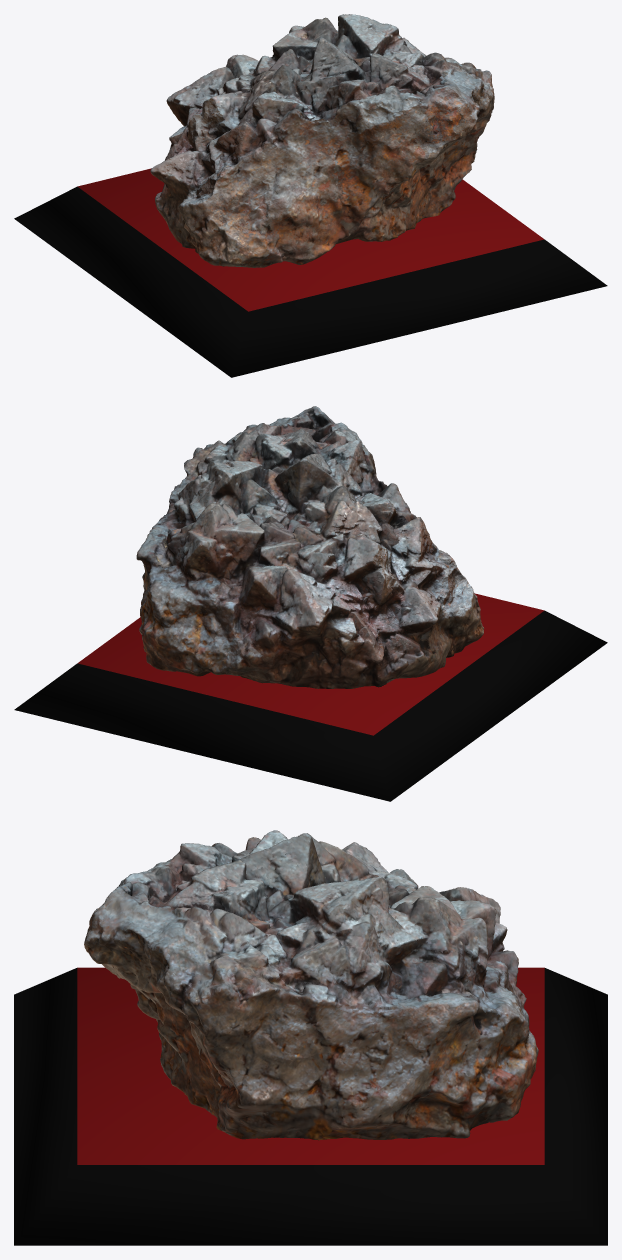
File: Magnetita.glb
The picture shows the model from 3 angles, top to bottom: view 1: azimuth 30°, elevation 25°; view 2: azimuth 150°, elevation 25°; view 3: azimuth 270°, elevation 25°; orthographic projection. The views are drawn at different scales.
Parts seen in each view (by area): view 1: texturedMesh.001; view 2: texturedMesh.001; view 3: texturedMesh.001.
Boxes of the visible parts, bbox=[...] form: texturedMesh.001: bbox=[14, 14, 607, 377]; texturedMesh.001: bbox=[14, 406, 607, 801]; texturedMesh.001: bbox=[14, 830, 607, 1245].
Bounding box in the file's own units: 10 × 5.43 × 10.
Materials: 5 (3 with a texture image).
